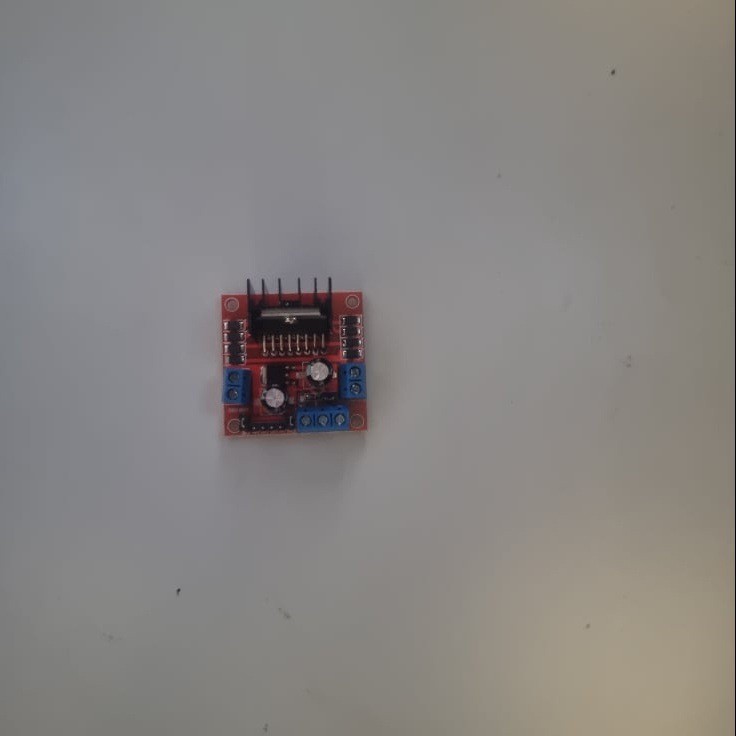MOTOR: (220, 278, 374, 437)
